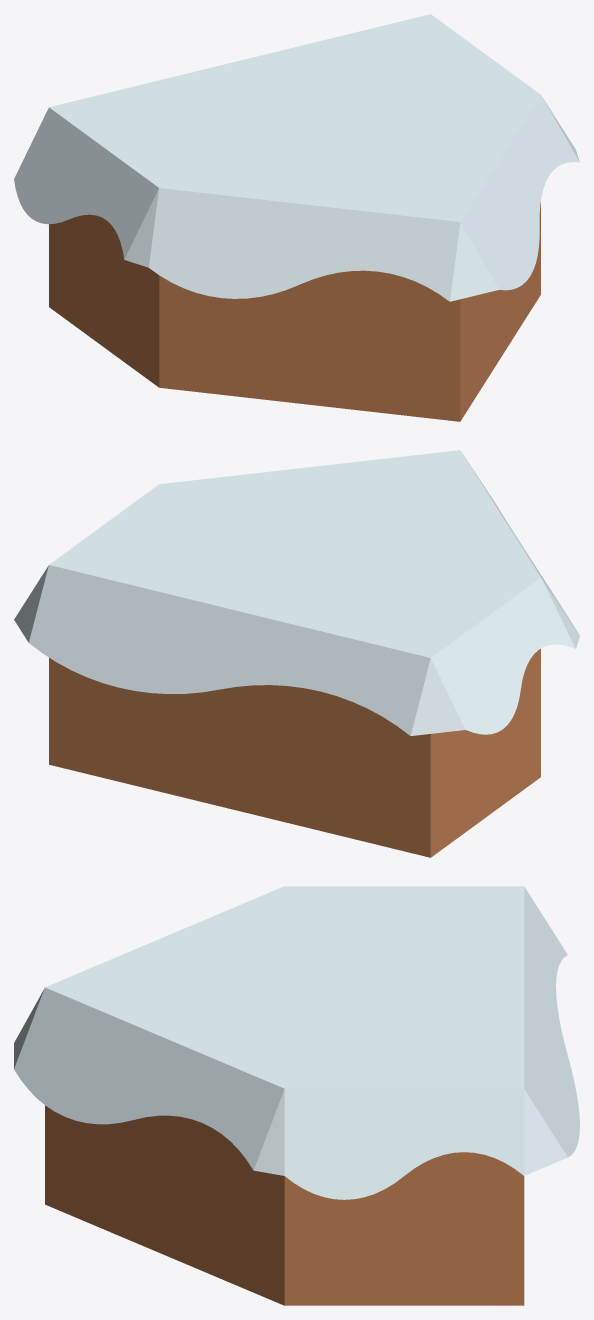
File: blockSnowEnd.dae
3 renders of one model, top to bottom at view 1: azimuth 30°, elevation 25°; view 2: azimuth 150°, elevation 25°; view 3: azimuth 270°, elevation 25°, orthographic. The views are drawn at different scales.
Parts seen in each view (by area): view 1: blockSnowEnd; view 2: blockSnowEnd; view 3: blockSnowEnd.
Boxes of the visible parts, bbox=[...] form: blockSnowEnd: bbox=[14, 14, 579, 421]; blockSnowEnd: bbox=[14, 450, 579, 857]; blockSnowEnd: bbox=[14, 886, 579, 1305].
Bounding box in the file's own units: 1.23 × 0.5 × 1.18.
